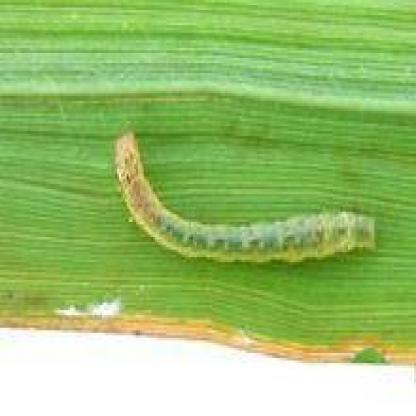leaf-folder: (101, 122, 384, 276)
